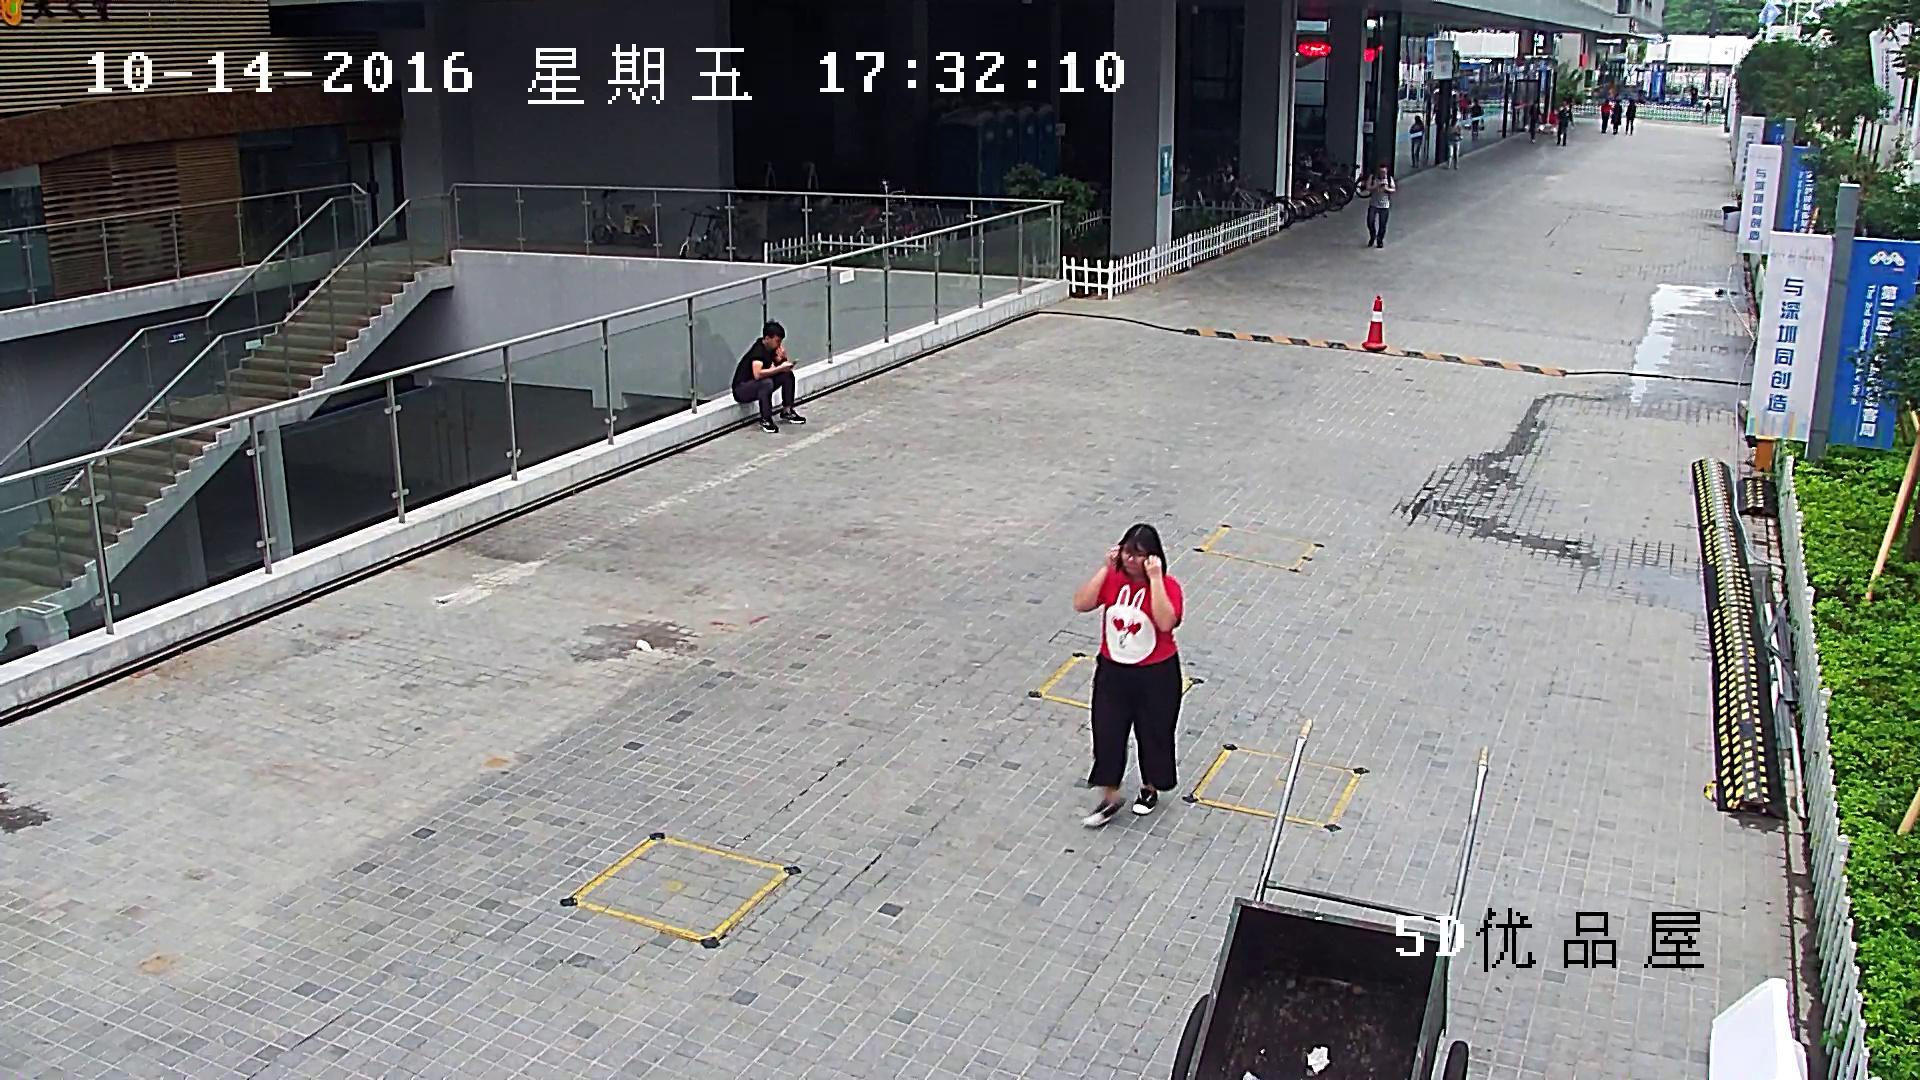person: (1074, 522, 1182, 826), (732, 321, 805, 432), (680, 314, 736, 395), (1366, 163, 1395, 247), (1409, 115, 1424, 167), (1556, 105, 1574, 146), (1447, 118, 1461, 169), (1469, 97, 1484, 140), (1528, 99, 1539, 142), (1600, 99, 1612, 133), (1625, 100, 1636, 135), (1610, 99, 1621, 134), (1458, 93, 1471, 119), (1431, 92, 1438, 125), (1689, 84, 1698, 99)
